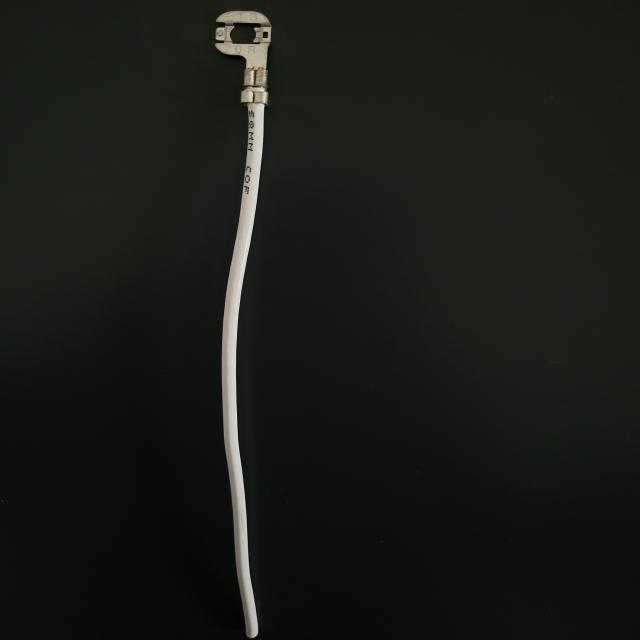good: (21, 3, 632, 640)
